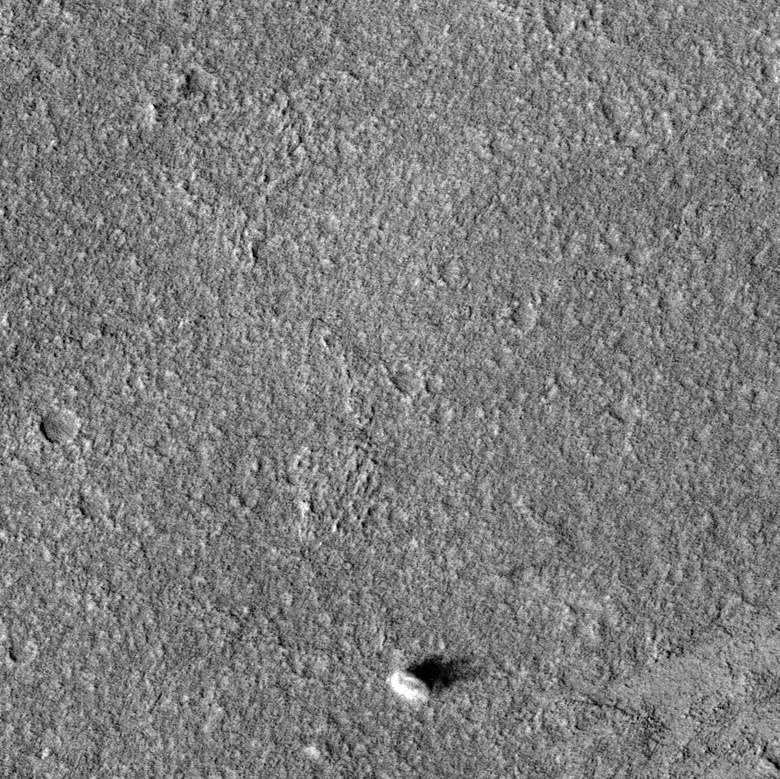dust_devil: (385, 651, 490, 706)
